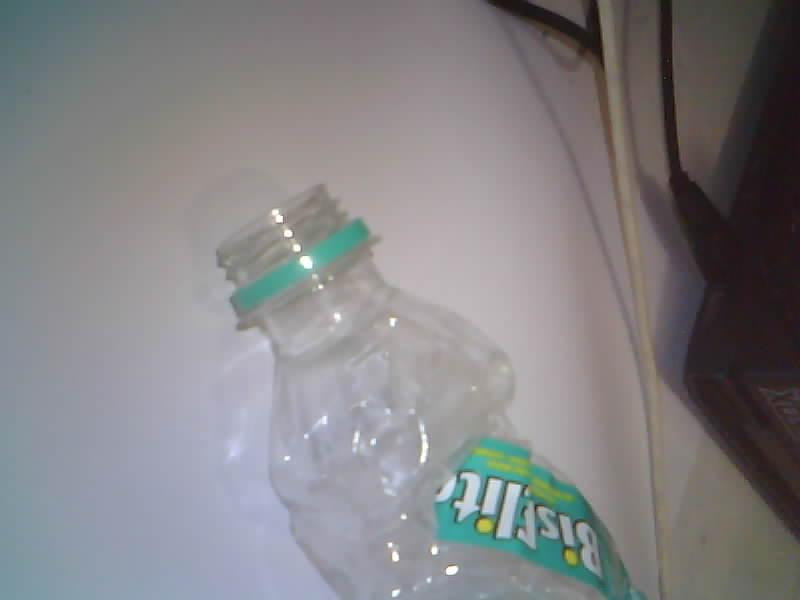non-biodegradable: (217, 186, 639, 599)
